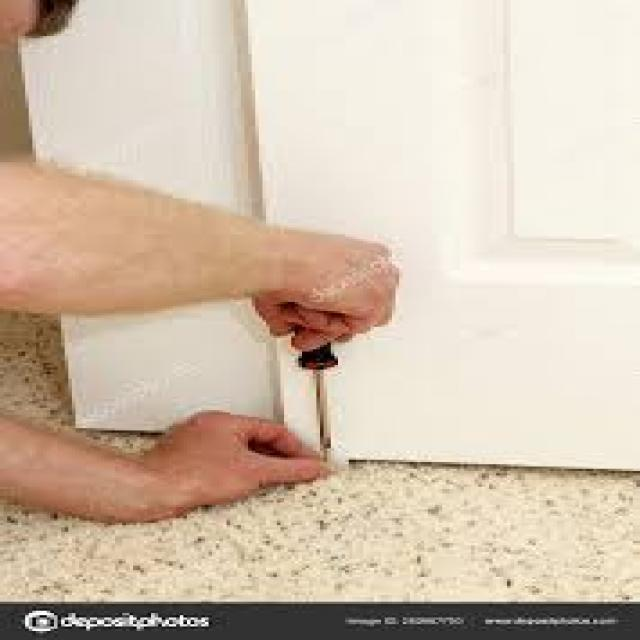screwdriver: (260, 280, 354, 468)
